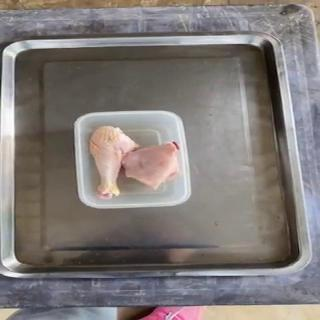Ayam: (89, 126, 141, 201), (122, 141, 182, 191)
